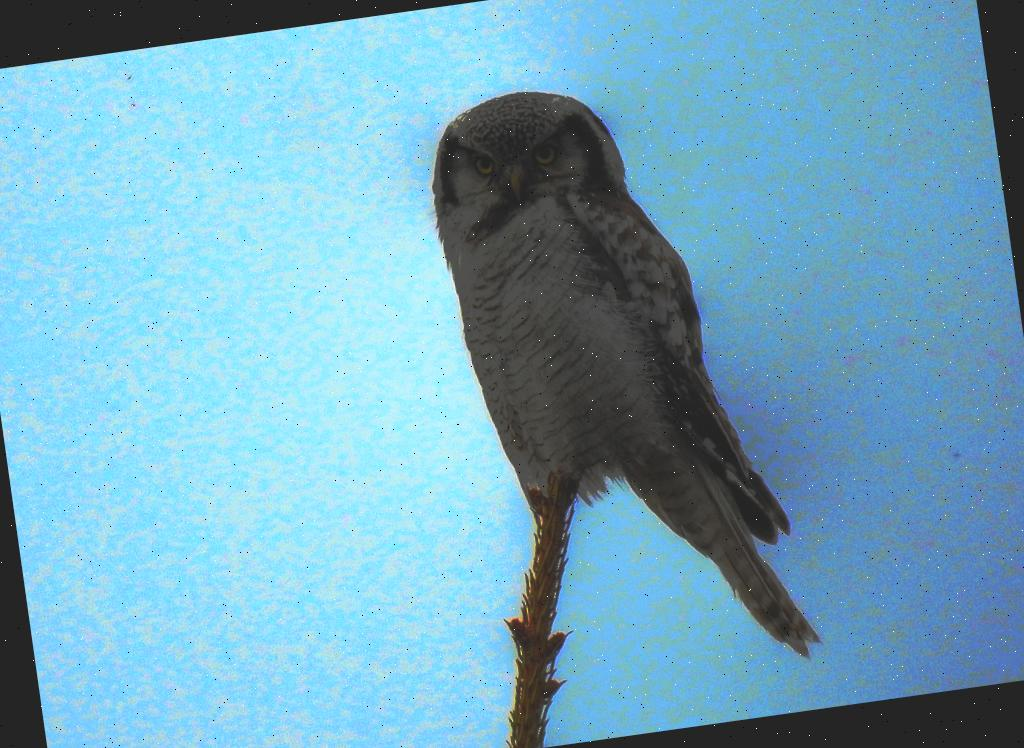Owl: (413, 48, 823, 708)
